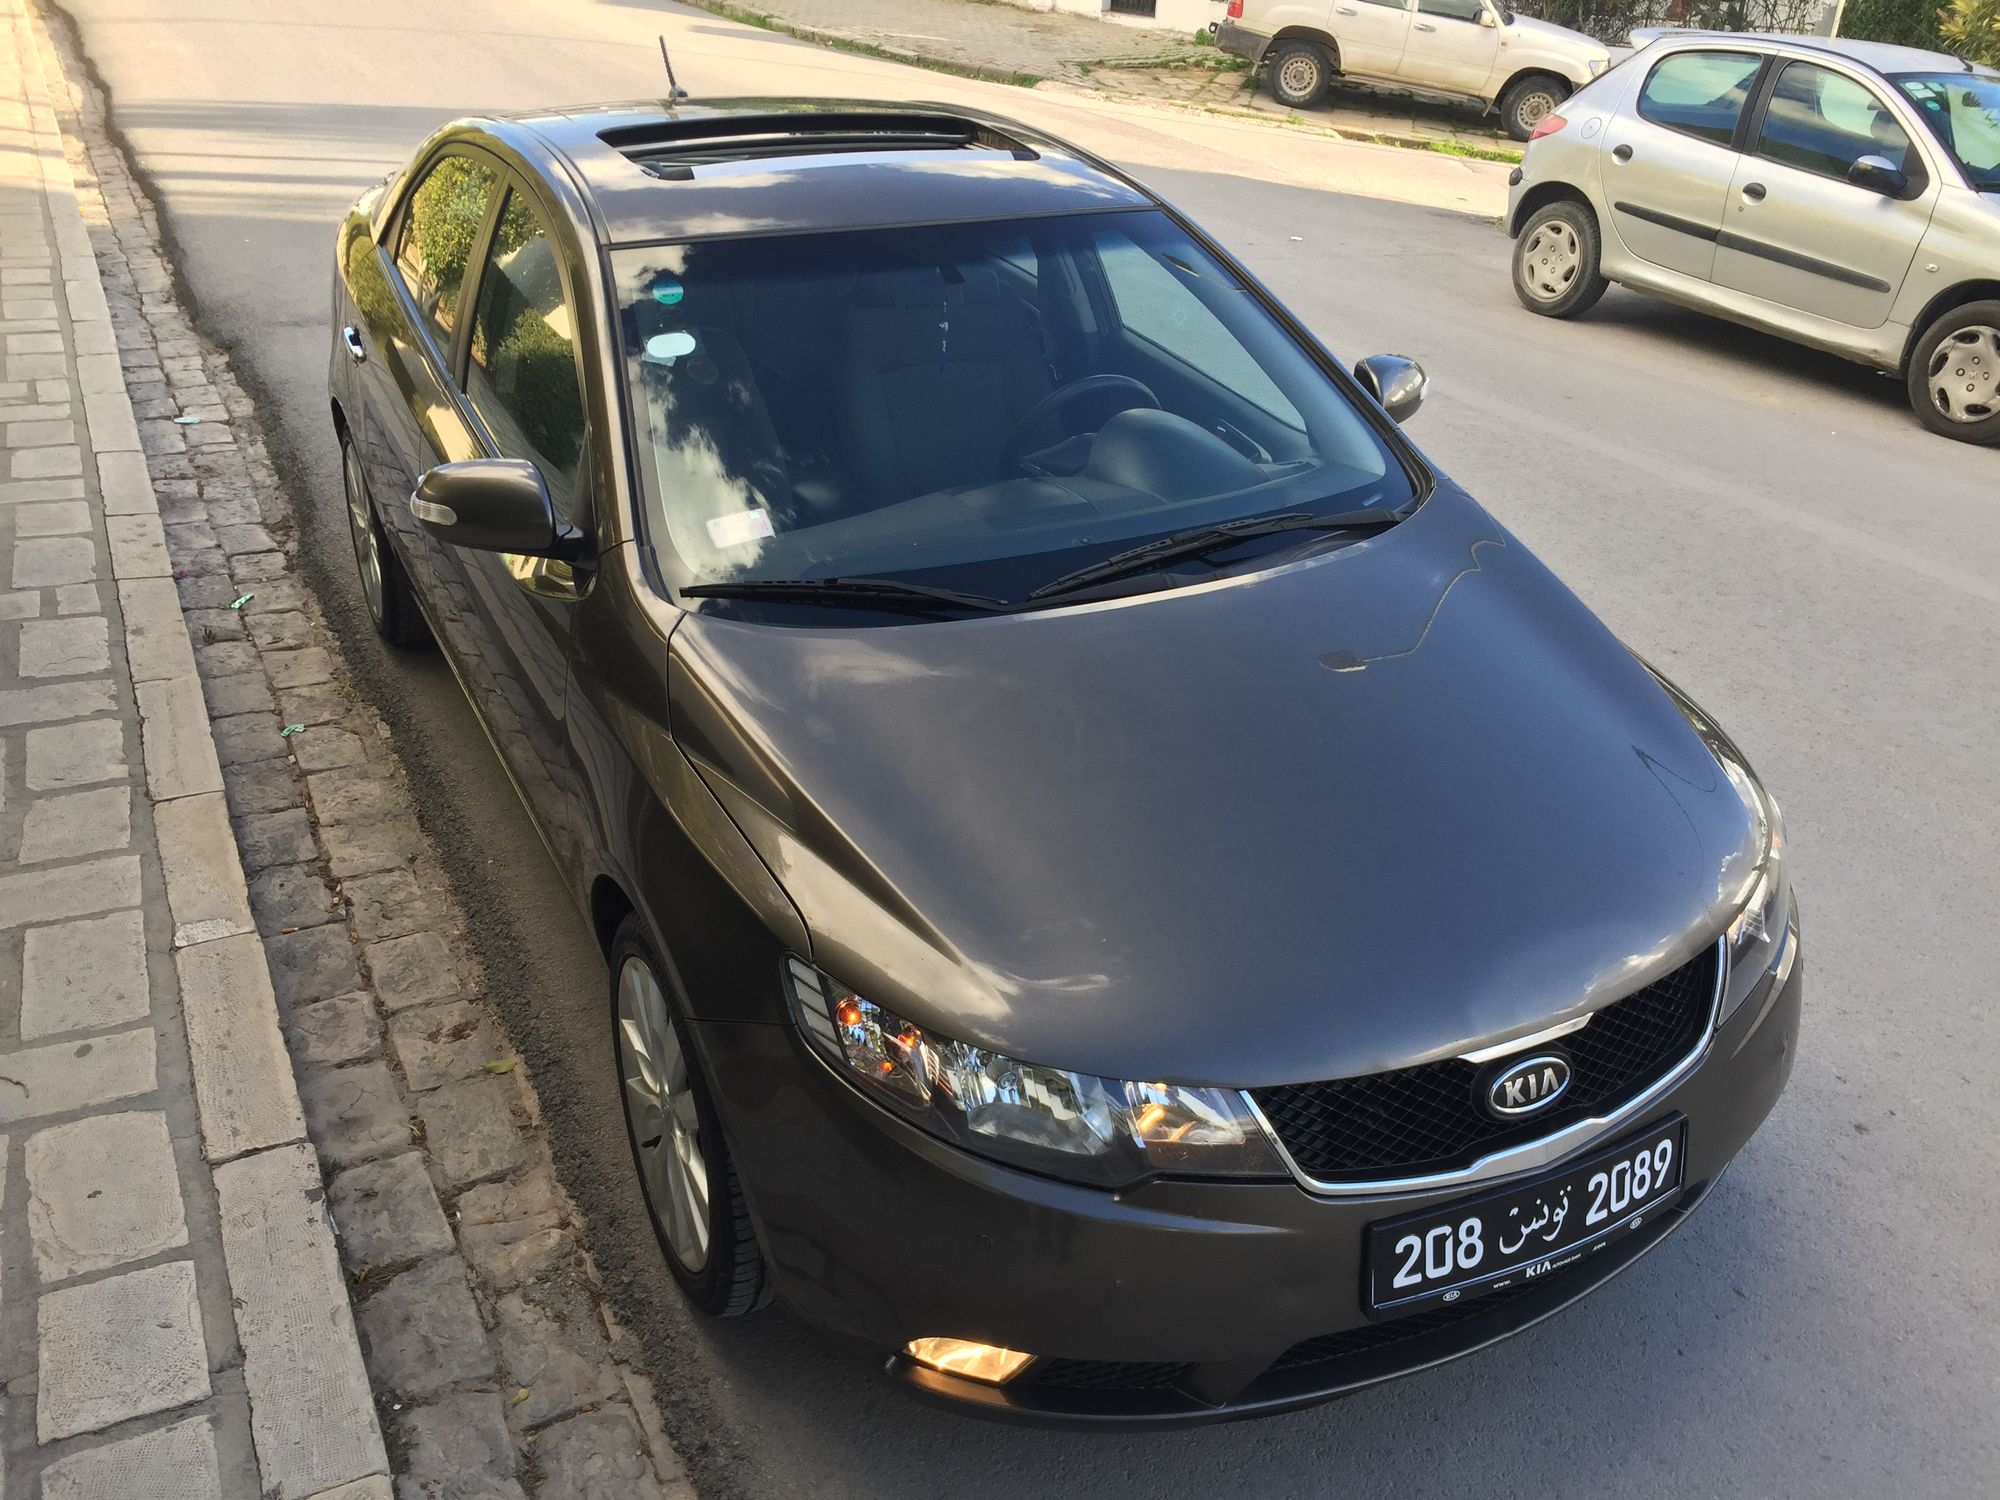LP: (1375, 1118, 1681, 1294)
